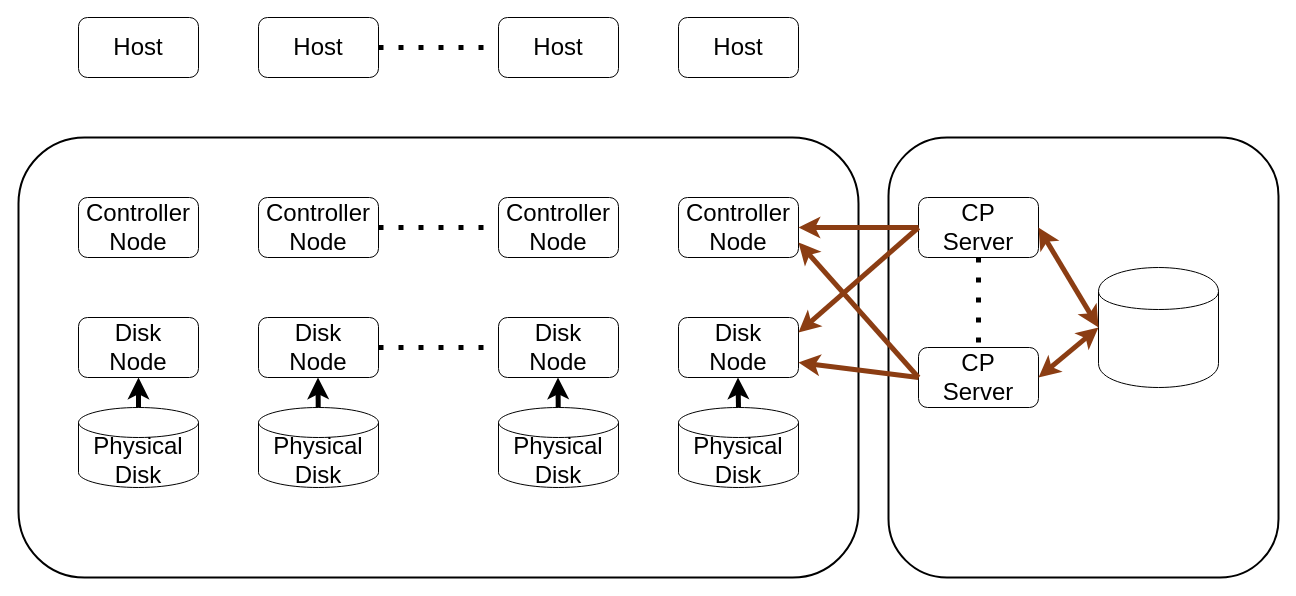
The diagram is 1296 pixels wide and 596 high, and some of its shapes have lost their labels. Here are the shapes that lost their labels. From the top down, the box of each, then its label:
(1098, 266, 1218, 388): etcd
(17, 136, 859, 578): Distributed NVMe Data Plane
(887, 136, 1279, 578): Distributed NVMe Control Plane
